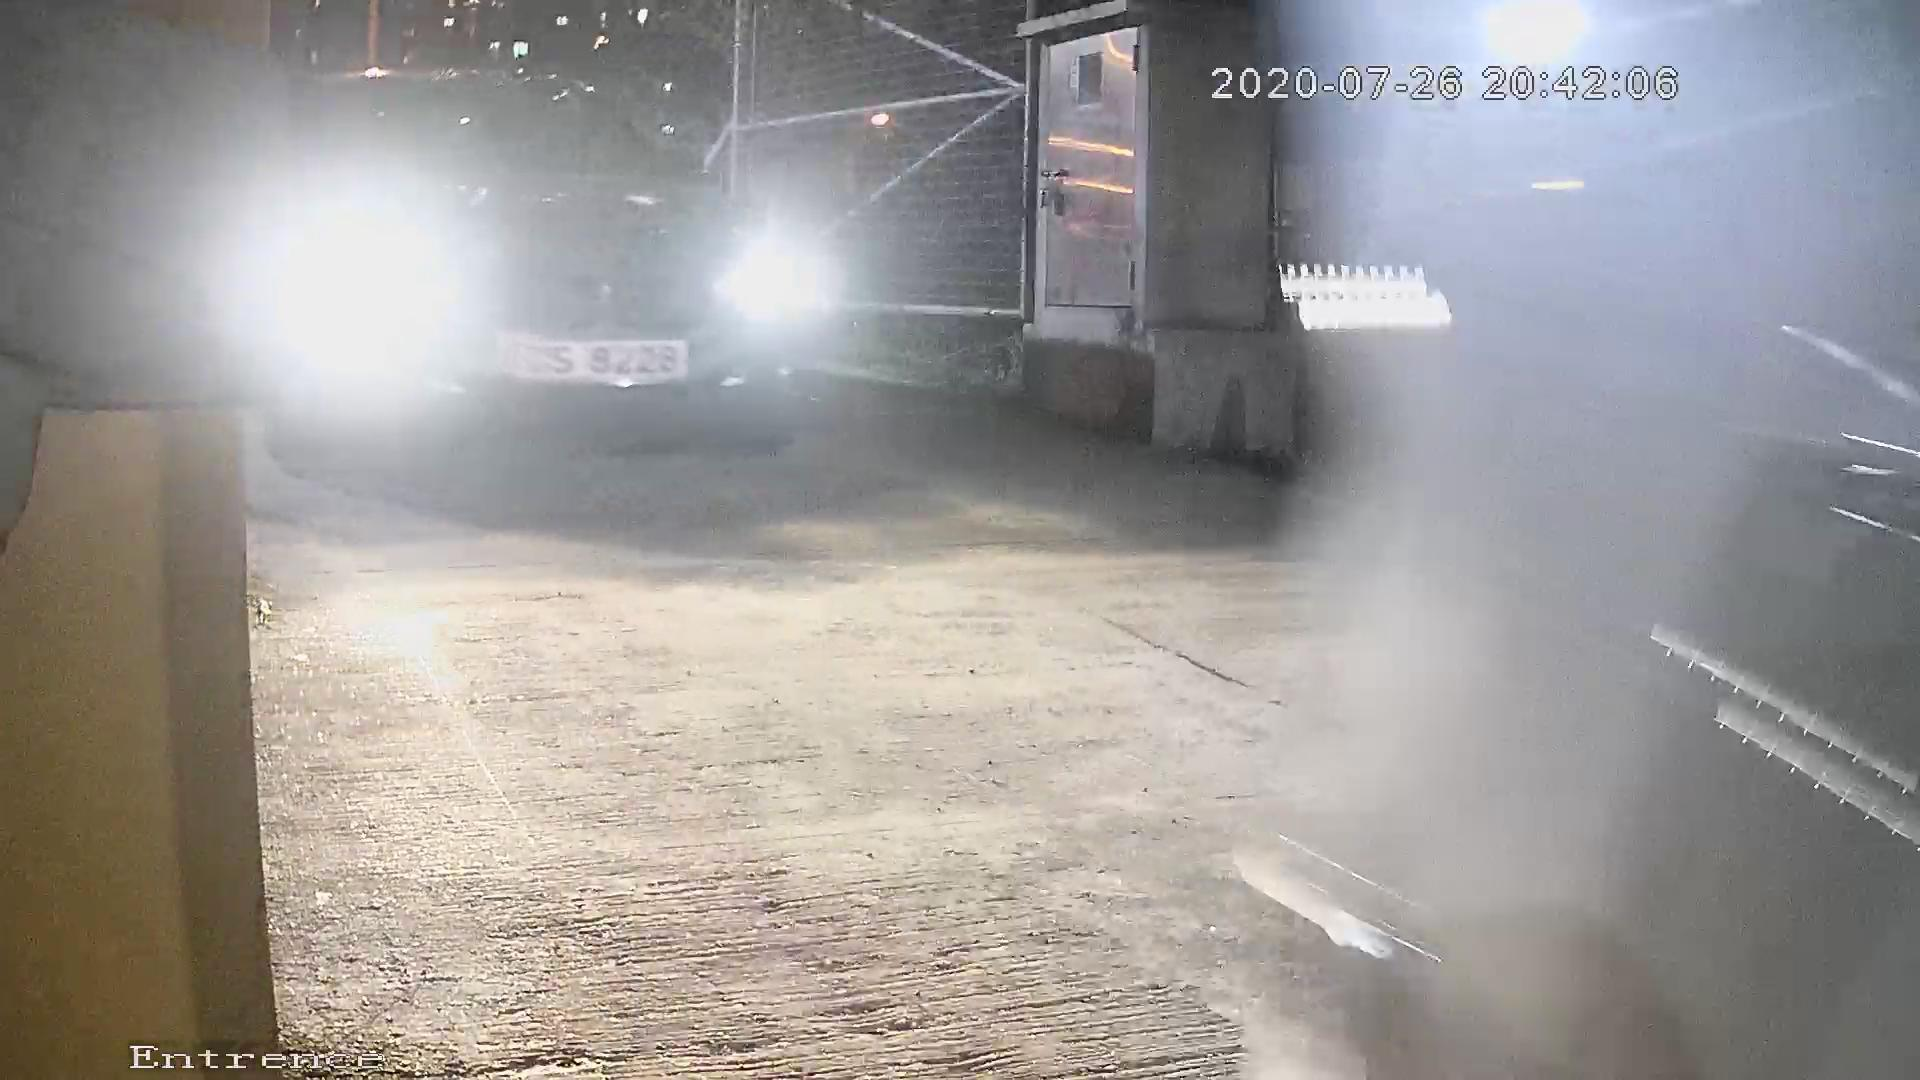License Plate: (498, 304, 738, 406)
